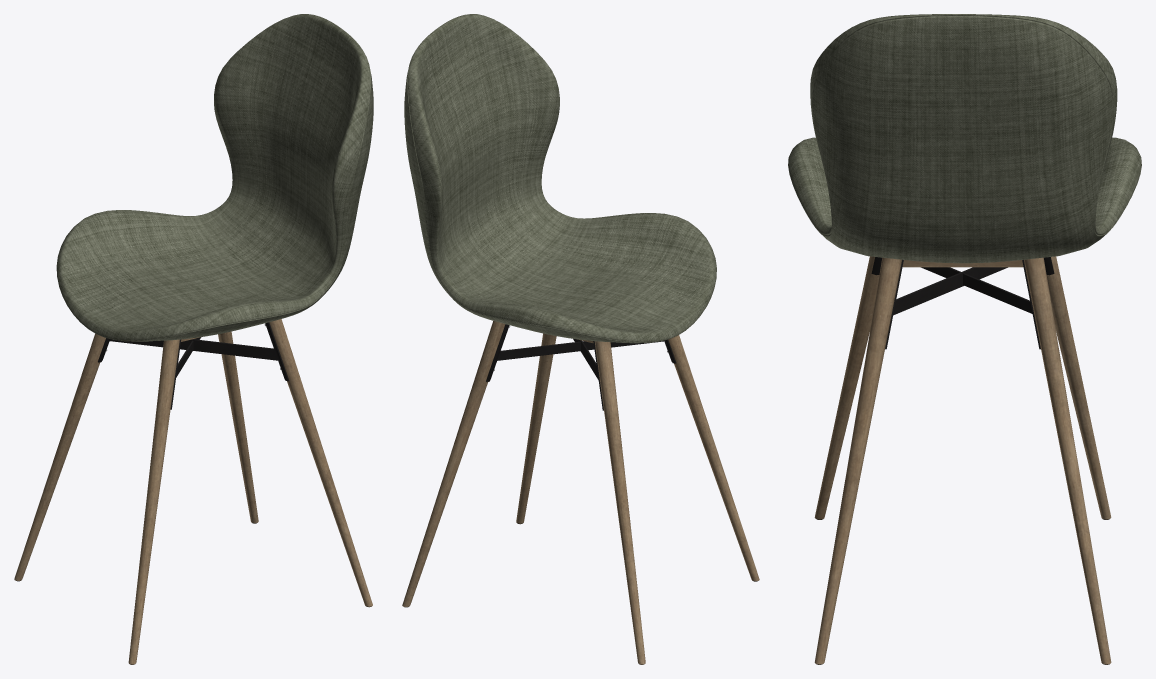
File: scandinavian_chair_green_fabric.glb
3 views of the same model, side by side, from view 1: azimuth 30°, elevation 25°; view 2: azimuth 150°, elevation 25°; view 3: azimuth 270°, elevation 25° (orthographic). The views are drawn at different scales.
Parts seen in each view (by area): view 1: Object001__0; view 2: Object001__0; view 3: Object001__0.
Boxes of the visible parts, box(x1,y1,x2,y2) form: Object001__0: box(14, 14, 373, 664); Object001__0: box(402, 14, 759, 664); Object001__0: box(788, 14, 1141, 664).
Bounding box in the file's own units: 0.4321 × 0.8112 × 0.3909.
Materials: 1 (1 with a texture image).
